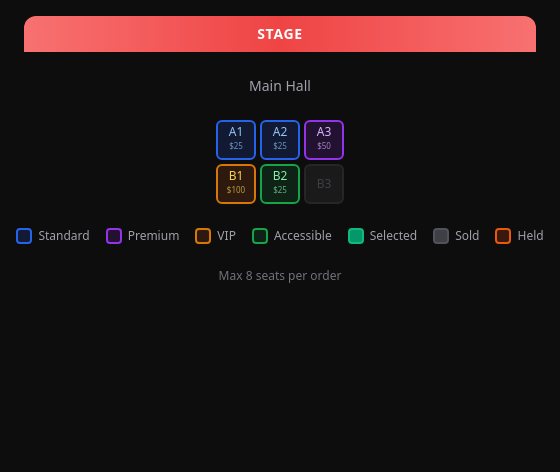
Test: SeatPicker › clears selection when Clear button is clicked
This screenshot has width=560, height=472.
Click the button named "Seat A1": (236, 140) [216,120,256,160]
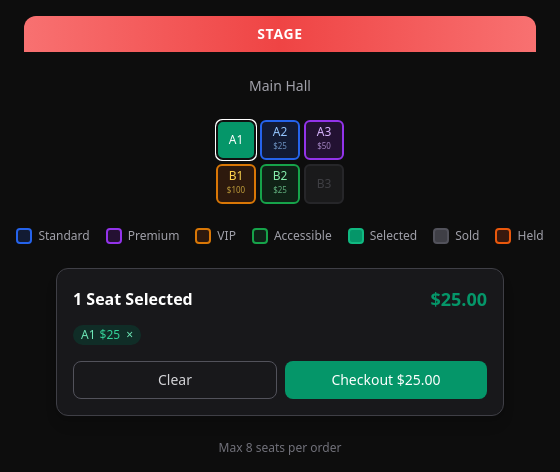
Result: the heading "1 Seat Selected" is shown at [73,287,193,311]
Click the button "Clear": (175, 380) [73,361,277,399]
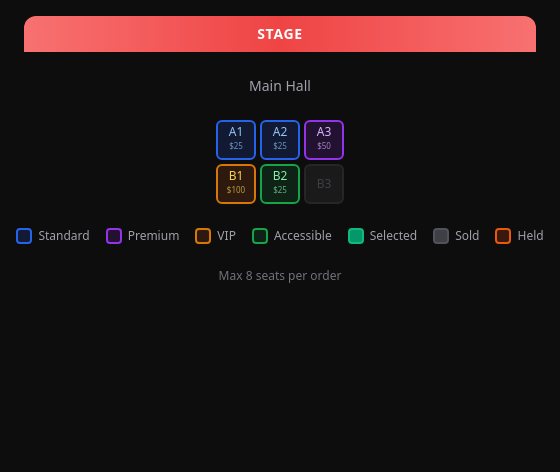
Result: the heading "1 Seat Selected" is gone
